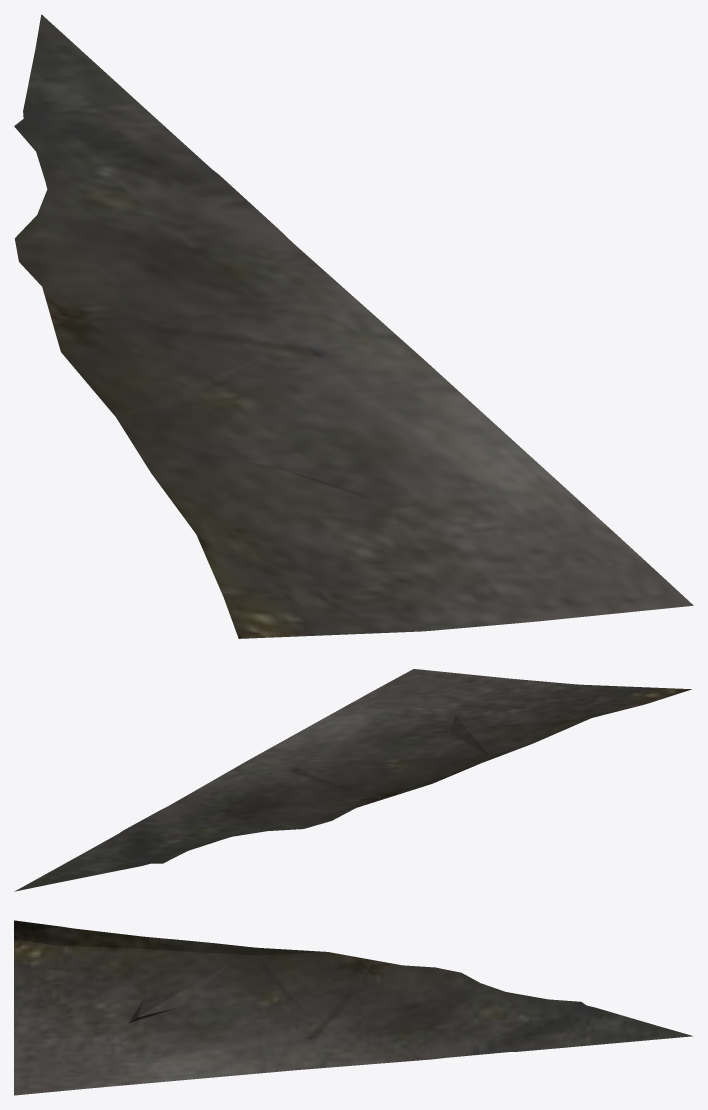
The picture shows the model from 3 angles, top to bottom: view 1: azimuth 30°, elevation 25°; view 2: azimuth 150°, elevation 25°; view 3: azimuth 270°, elevation 25°; orthographic projection. The views are drawn at different scales.
Size of the model in its own units: 1.71 by 0.4068 by 4.23.
1 material, 1 textured.
